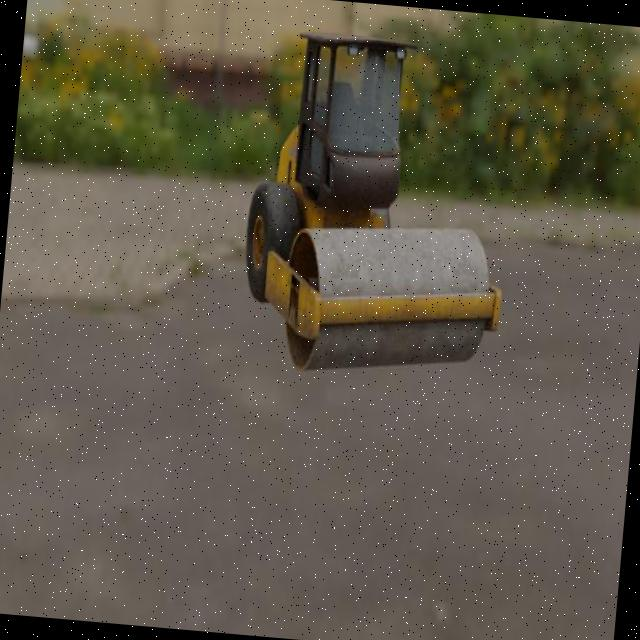Roller: (233, 24, 523, 387)
